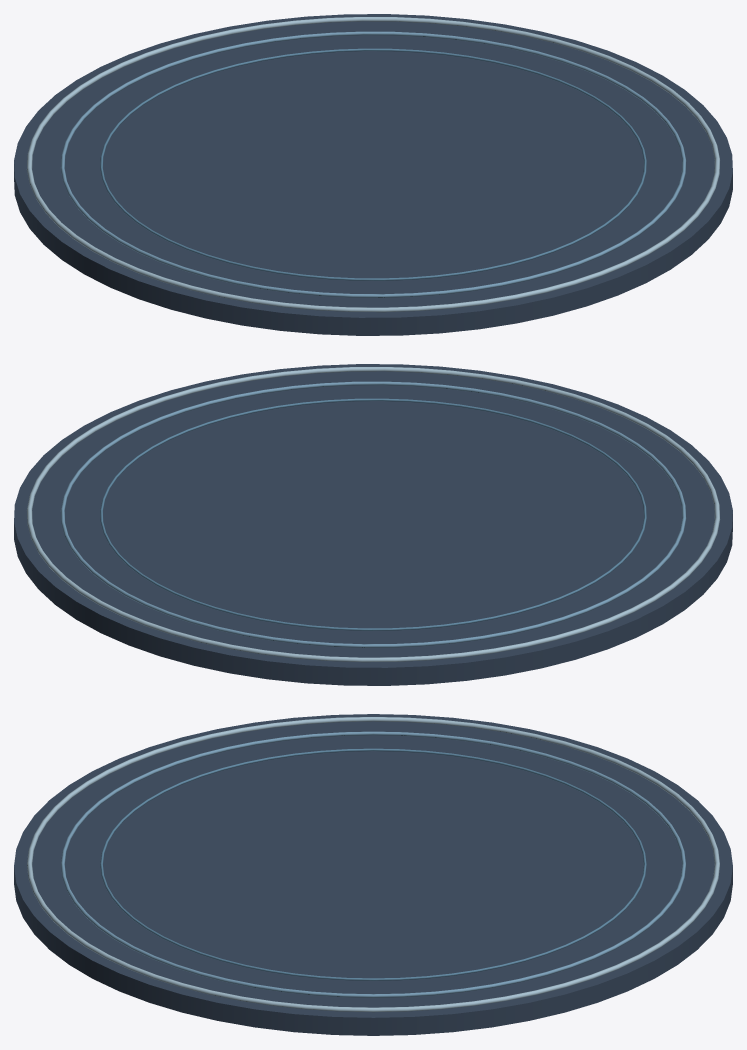
File: nou2-turntable.glb
The picture shows the model from 3 angles, top to bottom: view 1: azimuth 30°, elevation 25°; view 2: azimuth 150°, elevation 25°; view 3: azimuth 270°, elevation 25°; orthographic projection.
Parts seen in each view (by area): view 1: nou2-original; view 2: nou2-original; view 3: nou2-original.
Boxes of the visible parts, <box> form: nou2-original: <box>14,14,732,335</box>; nou2-original: <box>14,364,732,685</box>; nou2-original: <box>14,714,732,1035</box>.
Size of the model in its own units: 6.48 by 0.216 by 6.48.
